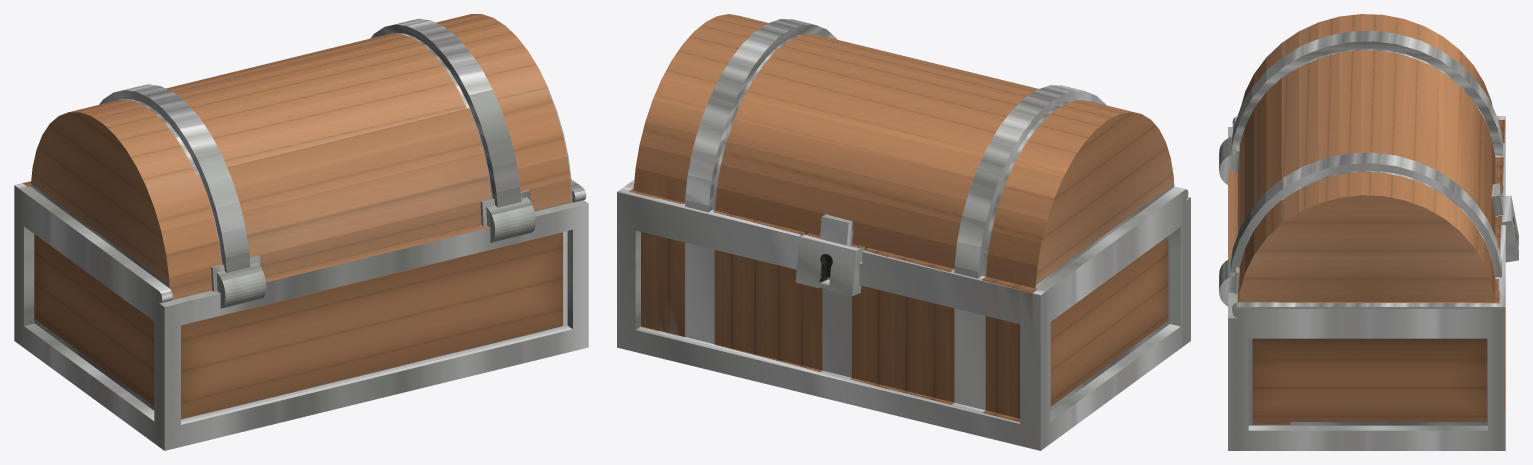
The model's file is chestTex2.obj.
3 renders of one model, left to right at view 1: azimuth 30°, elevation 25°; view 2: azimuth 150°, elevation 25°; view 3: azimuth 270°, elevation 25°, orthographic. The views are drawn at different scales.
Visible parts, largest first — view 1: Chest; view 2: Chest; view 3: Chest.
Part boxes in pixels (bbox=[...]): Chest: bbox=[14, 14, 588, 450]; Chest: bbox=[617, 14, 1190, 450]; Chest: bbox=[1219, 14, 1518, 450].
Size of the model in its own units: 2.67 by 1.68 by 1.77.
Materials: 1 (1 with a texture image).
